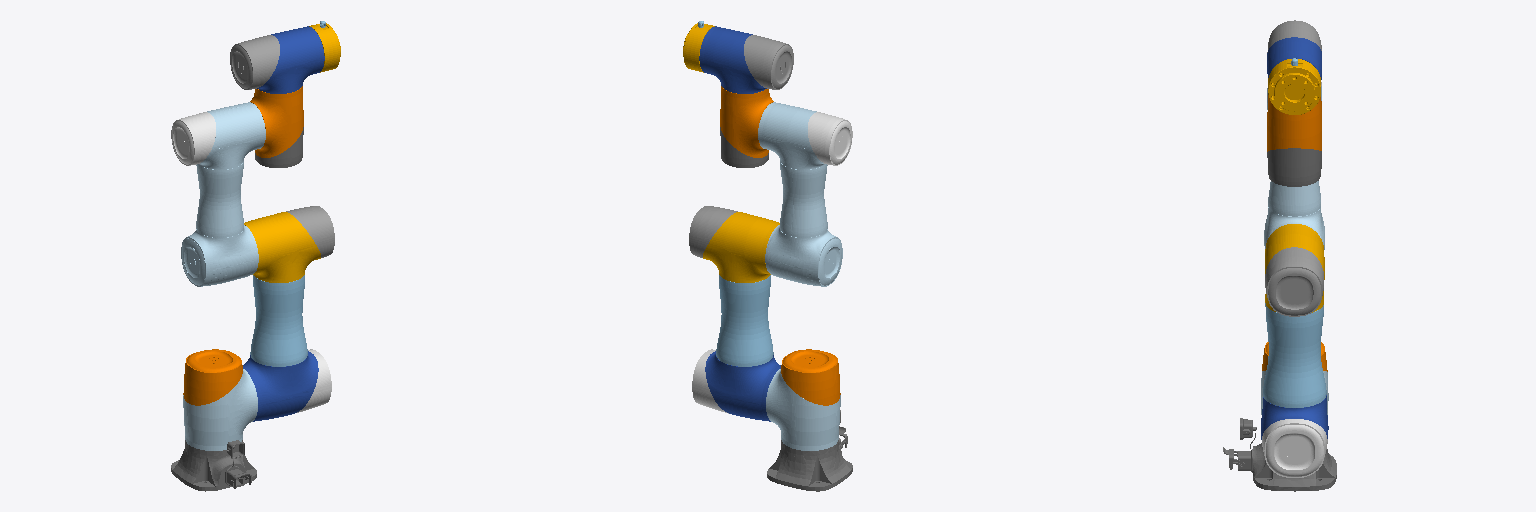
URDF robot description (robot):
<?xml version="1.0" ?>
<!-- Generated using onshape-to-robot -->
<!-- Onshape document_id: 384d273dab782e686905da03 / workspace_id: 05cffc649f36287ef4692688 -->
<robot name="robot">
  <!-- Link cr3_j6_asm_3_asm_1_asm_1_asm -->
  <link name="cr3_j6_asm_3_asm_1_asm_1_asm">
    <inertial>
      <origin xyz="0 0 0" rpy="0 0 0"/>
      <mass value="1e-09"/>
      <inertia ixx="1e-09" ixy="0" ixz="0" iyy="1e-09" iyz="0" izz="1e-09"/>
    </inertial>
    <!-- Part cr3_j6_cr3_2__cr30001_1_1_2_1_1 -->
    <visual>
      <origin xyz="-0.00190005 2.91544e-08 0.0589988" rpy="1.66533e-15 2.89768e-15 3.21987e-15"/>
      <geometry>
        <mesh filename="package://assets/cr3_j6_cr3_2__cr30001_1_1_2_1_1.stl"/>
      </geometry>
      <material name="cr3_j6_cr3_2__cr30001_1_1_2_1_1_material">
        <color rgba="0.615686 0.811765 0.929412 1"/>
      </material>
    </visual>
    <collision>
      <origin xyz="-0.00190005 2.91544e-08 0.0589988" rpy="1.66533e-15 2.89768e-15 3.21987e-15"/>
      <geometry>
        <mesh filename="package://assets/cr3_j6_cr3_2__cr30001_1_1_2_1_1.stl"/>
      </geometry>
    </collision>
    <!-- Part cr3_j6_cr3_2__cr30001_1_2_2_1_1 -->
    <visual>
      <origin xyz="-0.00190005 2.91544e-08 0.0589988" rpy="1.66533e-15 1.64624e-15 2.77118e-15"/>
      <geometry>
        <mesh filename="package://assets/cr3_j6_cr3_2__cr30001_1_2_2_1_1.stl"/>
      </geometry>
      <material name="cr3_j6_cr3_2__cr30001_1_2_2_1_1_material">
        <color rgba="0.980392 0.713725 0.00392157 1"/>
      </material>
    </visual>
    <collision>
      <origin xyz="-0.00190005 2.91544e-08 0.0589988" rpy="1.66533e-15 1.64624e-15 2.77118e-15"/>
      <geometry>
        <mesh filename="package://assets/cr3_j6_cr3_2__cr30001_1_2_2_1_1.stl"/>
      </geometry>
    </collision>
  </link>
  <!-- Link cr3_j5_asm_3_asm_1_asm_1_asm -->
  <link name="cr3_j5_asm_3_asm_1_asm_1_asm">
    <inertial>
      <origin xyz="0 0 0" rpy="0 0 0"/>
      <mass value="1e-09"/>
      <inertia ixx="1e-09" ixy="0" ixz="0" iyy="1e-09" iyz="0" izz="1e-09"/>
    </inertial>
    <!-- Part 1__5443600_1_2_1_1 -->
    <visual>
      <origin xyz="1.56781e-16 -0.6896 -0.1959" rpy="-1.5708 -1.5708 0"/>
      <geometry>
        <mesh filename="package://assets/1__5443600_1_2_1_1.stl"/>
      </geometry>
      <material name="1__5443600_1_2_1_1_material">
        <color rgba="0.231373 0.380392 0.705882 1"/>
      </material>
    </visual>
    <collision>
      <origin xyz="1.56781e-16 -0.6896 -0.1959" rpy="-1.5708 -1.5708 0"/>
      <geometry>
        <mesh filename="package://assets/1__5443600_1_2_1_1.stl"/>
      </geometry>
    </collision>
    <!-- Part 1__10296000_1_2_1_1 -->
    <visual>
      <origin xyz="1.39965e-07 -0.6896 -0.1959" rpy="-1.5708 -1.5708 0"/>
      <geometry>
        <mesh filename="package://assets/1__10296000_1_2_1_1.stl"/>
      </geometry>
      <material name="1__10296000_1_2_1_1_material">
        <color rgba="0.647059 0.647059 0.647059 1"/>
      </material>
    </visual>
    <collision>
      <origin xyz="1.39965e-07 -0.6896 -0.1959" rpy="-1.5708 -1.5708 0"/>
      <geometry>
        <mesh filename="package://assets/1__10296000_1_2_1_1.stl"/>
      </geometry>
    </collision>
  </link>
  <!-- Link cr3_j4_asm_3_asm_1_asm_1_asm -->
  <link name="cr3_j4_asm_3_asm_1_asm_1_asm">
    <inertial>
      <origin xyz="0 0 0" rpy="0 0 0"/>
      <mass value="1e-09"/>
      <inertia ixx="1e-09" ixy="0" ixz="0" iyy="1e-09" iyz="0" izz="1e-09"/>
    </inertial>
    <!-- Part 1__898100_1_2_1_1 -->
    <visual>
      <origin xyz="-2.73152e-09 -4.04826e-09 0.000999998" rpy="3.14159 9.82563e-19 3.14159"/>
      <geometry>
        <mesh filename="package://assets/1__898100_1_2_1_1.stl"/>
      </geometry>
      <material name="1__898100_1_2_1_1_material">
        <color rgba="0.498039 0.498039 0.498039 1"/>
      </material>
    </visual>
    <collision>
      <origin xyz="-2.73152e-09 -4.04826e-09 0.000999998" rpy="3.14159 9.82563e-19 3.14159"/>
      <geometry>
        <mesh filename="package://assets/1__898100_1_2_1_1.stl"/>
      </geometry>
    </collision>
    <!-- Part 1__5583500_1_2_1_1 -->
    <visual>
      <origin xyz="0 -1.18178e-16 0.001" rpy="3.14159 -2.29263e-29 3.14159"/>
      <geometry>
        <mesh filename="package://assets/1__5583500_1_2_1_1.stl"/>
      </geometry>
      <material name="1__5583500_1_2_1_1_material">
        <color rgba="0.972549 0.529412 0.00392157 1"/>
      </material>
    </visual>
    <collision>
      <origin xyz="0 -1.18178e-16 0.001" rpy="3.14159 -2.29263e-29 3.14159"/>
      <geometry>
        <mesh filename="package://assets/1__5583500_1_2_1_1.stl"/>
      </geometry>
    </collision>
  </link>
  <!-- Link cr3_j3_asm_3_asm_1_asm_1_asm -->
  <link name="cr3_j3_asm_3_asm_1_asm_1_asm">
    <inertial>
      <origin xyz="0 0 0" rpy="0 0 0"/>
      <mass value="1e-09"/>
      <inertia ixx="1e-09" ixy="0" ixz="0" iyy="1e-09" iyz="0" izz="1e-09"/>
    </inertial>
    <!-- Part cr3_j32_cr3_2__cr30001_1_2_1_1 -->
    <visual>
      <origin xyz="7.98858e-09 -0.5736 -0.0795999" rpy="-1.5708 -1.5708 0"/>
      <geometry>
        <mesh filename="package://assets/cr3_j32_cr3_2__cr30001_1_2_1_1.stl"/>
      </geometry>
      <material name="cr3_j32_cr3_2__cr30001_1_2_1_1_material">
        <color rgba="0.917647 0.917647 0.917647 1"/>
      </material>
    </visual>
    <collision>
      <origin xyz="7.98858e-09 -0.5736 -0.0795999" rpy="-1.5708 -1.5708 0"/>
      <geometry>
        <mesh filename="package://assets/cr3_j32_cr3_2__cr30001_1_2_1_1.stl"/>
      </geometry>
    </collision>
    <!-- Part cr3_j3_cr3_2__cr30001_1_3_1_1 -->
    <visual>
      <origin xyz="6.42567e-17 -0.5736 -0.0796" rpy="-1.5708 -1.5708 0"/>
      <geometry>
        <mesh filename="package://assets/cr3_j3_cr3_2__cr30001_1_3_1_1.stl"/>
      </geometry>
      <material name="cr3_j3_cr3_2__cr30001_1_3_1_1_material">
        <color rgba="0.768627 0.886275 0.952941 1"/>
      </material>
    </visual>
    <collision>
      <origin xyz="6.42567e-17 -0.5736 -0.0796" rpy="-1.5708 -1.5708 0"/>
      <geometry>
        <mesh filename="package://assets/cr3_j3_cr3_2__cr30001_1_3_1_1.stl"/>
      </geometry>
    </collision>
  </link>
  <!-- Link cr3_j2_asm_3_asm_1_asm_1_asm -->
  <link name="cr3_j2_asm_3_asm_1_asm_1_asm">
    <inertial>
      <origin xyz="0 0 0" rpy="0 0 0"/>
      <mass value="1e-09"/>
      <inertia ixx="1e-09" ixy="0" ixz="0" iyy="1e-09" iyz="0" izz="1e-09"/>
    </inertial>
    <!-- Part 2__379600_1_2_1_1 -->
    <visual>
      <origin xyz="3.06522e-08 0.3434 0.0625997" rpy="1.5708 1.5708 0"/>
      <geometry>
        <mesh filename="package://assets/2__379600_1_2_1_1.stl"/>
      </geometry>
      <material name="2__379600_1_2_1_1_material">
        <color rgba="0.917647 0.917647 0.917647 1"/>
      </material>
    </visual>
    <collision>
      <origin xyz="3.06522e-08 0.3434 0.0625997" rpy="1.5708 1.5708 0"/>
      <geometry>
        <mesh filename="package://assets/2__379600_1_2_1_1.stl"/>
      </geometry>
    </collision>
    <!-- Part 2__10365500_1_2_1_1 -->
    <visual>
      <origin xyz="2.45243e-09 0.3436 0.0626" rpy="1.5708 1.5708 0"/>
      <geometry>
        <mesh filename="package://assets/2__10365500_1_2_1_1.stl"/>
      </geometry>
      <material name="2__10365500_1_2_1_1_material">
        <color rgba="0.980392 0.713725 0.00392157 1"/>
      </material>
    </visual>
    <collision>
      <origin xyz="2.45243e-09 0.3436 0.0626" rpy="1.5708 1.5708 0"/>
      <geometry>
        <mesh filename="package://assets/2__10365500_1_2_1_1.stl"/>
      </geometry>
    </collision>
    <!-- Part 2__5654200_1_2_1_1 -->
    <visual>
      <origin xyz="-5.44801e-07 0.3436 0.0626" rpy="1.5708 1.5708 0"/>
      <geometry>
        <mesh filename="package://assets/2__5654200_1_2_1_1.stl"/>
      </geometry>
      <material name="2__5654200_1_2_1_1_material">
        <color rgba="0.647059 0.647059 0.647059 1"/>
      </material>
    </visual>
    <collision>
      <origin xyz="-5.44801e-07 0.3436 0.0626" rpy="1.5708 1.5708 0"/>
      <geometry>
        <mesh filename="package://assets/2__5654200_1_2_1_1.stl"/>
      </geometry>
    </collision>
    <!-- Part 2__968800_1_2_1_1 -->
    <visual>
      <origin xyz="-2.91535e-08 0.3434 0.0625999" rpy="1.5708 1.5708 0"/>
      <geometry>
        <mesh filename="package://assets/2__968800_1_2_1_1.stl"/>
      </geometry>
      <material name="2__968800_1_2_1_1_material">
        <color rgba="0.231373 0.380392 0.705882 1"/>
      </material>
    </visual>
    <collision>
      <origin xyz="-2.91535e-08 0.3434 0.0625999" rpy="1.5708 1.5708 0"/>
      <geometry>
        <mesh filename="package://assets/2__968800_1_2_1_1.stl"/>
      </geometry>
    </collision>
    <!-- Part none_1_2_1_1 -->
    <visual>
      <origin xyz="6.1529e-09 0.3436 0.0626" rpy="1.5708 1.5708 0"/>
      <geometry>
        <mesh filename="package://assets/none_1_2_1_1.stl"/>
      </geometry>
      <material name="none_1_2_1_1_material">
        <color rgba="0.615686 0.811765 0.929412 1"/>
      </material>
    </visual>
    <collision>
      <origin xyz="6.1529e-09 0.3436 0.0626" rpy="1.5708 1.5708 0"/>
      <geometry>
        <mesh filename="package://assets/none_1_2_1_1.stl"/>
      </geometry>
    </collision>
  </link>
  <!-- Link cr3_j1_asm_3_asm_1_asm_1_asm -->
  <link name="cr3_j1_asm_3_asm_1_asm_1_asm">
    <inertial>
      <origin xyz="0 0 0" rpy="0 0 0"/>
      <mass value="1e-09"/>
      <inertia ixx="1e-09" ixy="0" ixz="0" iyy="1e-09" iyz="0" izz="1e-09"/>
    </inertial>
    <!-- Part 1__1038100_1_2_1_1 -->
    <visual>
      <origin xyz="-0.042 9.14997e-13 -0.059" rpy="1.5708 1.5708 0"/>
      <geometry>
        <mesh filename="package://assets/1__1038100_1_2_1_1.stl"/>
      </geometry>
      <material name="1__1038100_1_2_1_1_material">
        <color rgba="0.768627 0.886275 0.952941 1"/>
      </material>
    </visual>
    <collision>
      <origin xyz="-0.042 9.14997e-13 -0.059" rpy="1.5708 1.5708 0"/>
      <geometry>
        <mesh filename="package://assets/1__1038100_1_2_1_1.stl"/>
      </geometry>
    </collision>
    <!-- Part 1__309400_1_2_1_1 -->
    <visual>
      <origin xyz="-0.0419999 1.72068e-06 -0.0589997" rpy="1.5708 1.5708 0"/>
      <geometry>
        <mesh filename="package://assets/1__309400_1_2_1_1.stl"/>
      </geometry>
      <material name="1__309400_1_2_1_1_material">
        <color rgba="0.972549 0.529412 0.00392157 1"/>
      </material>
    </visual>
    <collision>
      <origin xyz="-0.0419999 1.72068e-06 -0.0589997" rpy="1.5708 1.5708 0"/>
      <geometry>
        <mesh filename="package://assets/1__309400_1_2_1_1.stl"/>
      </geometry>
    </collision>
  </link>
  <!-- Link cr3_base_2_1_1 -->
  <link name="cr3_base_2_1_1">
    <inertial>
      <origin xyz="0 0 0" rpy="0 0 0"/>
      <mass value="1e-09"/>
      <inertia ixx="1e-09" ixy="0" ixz="0" iyy="1e-09" iyz="0" izz="1e-09"/>
    </inertial>
    <!-- Part cr3_base_2_1_1 -->
    <visual>
      <origin xyz="5.20417e-18 3.06855e-11 -8.38218e-15" rpy="6.79409e-09 -3.04663e-16 3.14159"/>
      <geometry>
        <mesh filename="package://assets/cr3_base_2_1_1.stl"/>
      </geometry>
      <material name="cr3_base_2_1_1_material">
        <color rgba="0.498039 0.498039 0.498039 1"/>
      </material>
    </visual>
    <collision>
      <origin xyz="5.20417e-18 3.06855e-11 -8.38218e-15" rpy="6.79409e-09 -3.04663e-16 3.14159"/>
      <geometry>
        <mesh filename="package://assets/cr3_base_2_1_1.stl"/>
      </geometry>
    </collision>
  </link>
  <!-- Joint from cr3_j1_asm_3_asm_1_asm_1_asm to cr3_base_2_1_1 -->
  <joint name="j0" type="revolute">
    <origin xyz="-0.0698 9.14997e-13 -0.059" rpy="-0 1.5708 0"/>
    <parent link="cr3_j1_asm_3_asm_1_asm_1_asm"/>
    <child link="cr3_base_2_1_1"/>
    <axis xyz="0 0 1"/>
    <limit effort="10" velocity="10" lower="0" upper="3.14159"/>
  </joint>
  <!-- Joint from cr3_j2_asm_3_asm_1_asm_1_asm to cr3_j1_asm_3_asm_1_asm_1_asm -->
  <joint name="j1" type="revolute">
    <origin xyz="-2.91535e-08 0.2738 0.00359995" rpy="-3.14159 1.00424e-15 -1.5708"/>
    <parent link="cr3_j2_asm_3_asm_1_asm_1_asm"/>
    <child link="cr3_j1_asm_3_asm_1_asm_1_asm"/>
    <axis xyz="0 0 1"/>
    <limit effort="10" velocity="10" lower="0" upper="3.14159"/>
  </joint>
  <!-- Joint from cr3_j3_asm_3_asm_1_asm_1_asm to cr3_j2_asm_3_asm_1_asm_1_asm -->
  <joint name="j2" type="revolute">
    <origin xyz="4.71638e-17 -0.229999 -0.0167" rpy="3.14159 -5.74986e-16 -5.55112e-17"/>
    <parent link="cr3_j3_asm_3_asm_1_asm_1_asm"/>
    <child link="cr3_j2_asm_3_asm_1_asm_1_asm"/>
    <axis xyz="0 0 1"/>
    <limit effort="10" velocity="10" lower="0" upper="3.14159"/>
  </joint>
  <!-- Joint from cr3_j4_asm_3_asm_1_asm_1_asm to cr3_j3_asm_3_asm_1_asm_1_asm -->
  <joint name="j3" type="revolute">
    <origin xyz="-0.049 -4.39748e-17 -0.067" rpy="1.5708 -5.55112e-17 1.5708"/>
    <parent link="cr3_j4_asm_3_asm_1_asm_1_asm"/>
    <child link="cr3_j3_asm_3_asm_1_asm_1_asm"/>
    <axis xyz="0 0 1"/>
    <limit effort="10" velocity="10" lower="0" upper="3.14159"/>
  </joint>
  <!-- Joint from cr3_j5_asm_3_asm_1_asm_1_asm to cr3_j4_asm_3_asm_1_asm_1_asm -->
  <joint name="j4" type="revolute">
    <origin xyz="4.34299e-17 -0.049 -0.0673" rpy="-1.5708 -1.5708 0"/>
    <parent link="cr3_j5_asm_3_asm_1_asm_1_asm"/>
    <child link="cr3_j4_asm_3_asm_1_asm_1_asm"/>
    <axis xyz="0 0 1"/>
    <limit effort="10" velocity="10" lower="-1.77636e-15" upper="3.14159"/>
  </joint>
  <!-- Joint from cr3_j6_asm_3_asm_1_asm_1_asm to cr3_j5_asm_3_asm_1_asm_1_asm -->
  <joint name="j5" type="revolute">
    <origin xyz="0.1921 2.91544e-08 0.748599" rpy="1.5708 -1.66533e-15 1.5708"/>
    <parent link="cr3_j6_asm_3_asm_1_asm_1_asm"/>
    <child link="cr3_j5_asm_3_asm_1_asm_1_asm"/>
    <axis xyz="0 0 1"/>
    <limit effort="10" velocity="10" lower="0" upper="4.71239"/>
  </joint>
</robot>

--- What the picture shows (computed from the rendered views, not written in the file) ---
The picture shows the robot from 3 angles, left to right: view 1: azimuth 30°, elevation 25°; view 2: azimuth 150°, elevation 25°; view 3: azimuth 270°, elevation 25°; orthographic projection.
Robot: robot — 7 links, 6 joints (6 revolute); root link cr3_j6_asm_3_asm_1_asm_1_asm; default pose: all joints at 0.
Visible links, largest first — view 1: cr3_j2_asm_3_asm_1_asm_1_asm, cr3_j3_asm_3_asm_1_asm_1_asm, cr3_j1_asm_3_asm_1_asm_1_asm, cr3_j5_asm_3_asm_1_asm_1_asm, cr3_j4_asm_3_asm_1_asm_1_asm, cr3_base_2_1_1, cr3_j6_asm_3_asm_1_asm_1_asm; view 2: cr3_j2_asm_3_asm_1_asm_1_asm, cr3_j3_asm_3_asm_1_asm_1_asm, cr3_j1_asm_3_asm_1_asm_1_asm, cr3_j5_asm_3_asm_1_asm_1_asm, cr3_j4_asm_3_asm_1_asm_1_asm, cr3_base_2_1_1, cr3_j6_asm_3_asm_1_asm_1_asm; view 3: cr3_j2_asm_3_asm_1_asm_1_asm, cr3_j4_asm_3_asm_1_asm_1_asm, cr3_base_2_1_1, cr3_j3_asm_3_asm_1_asm_1_asm, cr3_j6_asm_3_asm_1_asm_1_asm, cr3_j5_asm_3_asm_1_asm_1_asm.
Link boxes in pixels (left/top/right/bottom): cr3_j2_asm_3_asm_1_asm_1_asm: left=243, top=206, right=334, bottom=421; cr3_j3_asm_3_asm_1_asm_1_asm: left=171, top=102, right=265, bottom=286; cr3_j1_asm_3_asm_1_asm_1_asm: left=183, top=349, right=257, bottom=450; cr3_j5_asm_3_asm_1_asm_1_asm: left=230, top=26, right=324, bottom=93; cr3_j4_asm_3_asm_1_asm_1_asm: left=250, top=86, right=303, bottom=167; cr3_base_2_1_1: left=171, top=440, right=256, bottom=491; cr3_j6_asm_3_asm_1_asm_1_asm: left=309, top=21, right=340, bottom=72; cr3_j2_asm_3_asm_1_asm_1_asm: left=689, top=206, right=780, bottom=421; cr3_j3_asm_3_asm_1_asm_1_asm: left=758, top=102, right=852, bottom=286; cr3_j1_asm_3_asm_1_asm_1_asm: left=766, top=349, right=840, bottom=450; cr3_j5_asm_3_asm_1_asm_1_asm: left=699, top=26, right=793, bottom=93; cr3_j4_asm_3_asm_1_asm_1_asm: left=720, top=86, right=773, bottom=167; cr3_base_2_1_1: left=767, top=410, right=852, bottom=491; cr3_j6_asm_3_asm_1_asm_1_asm: left=683, top=21, right=714, bottom=72; cr3_j2_asm_3_asm_1_asm_1_asm: left=1261, top=224, right=1328, bottom=477; cr3_j4_asm_3_asm_1_asm_1_asm: left=1267, top=95, right=1321, bottom=186; cr3_base_2_1_1: left=1223, top=418, right=1336, bottom=491; cr3_j3_asm_3_asm_1_asm_1_asm: left=1264, top=82, right=1324, bottom=249; cr3_j6_asm_3_asm_1_asm_1_asm: left=1268, top=58, right=1320, bottom=114; cr3_j5_asm_3_asm_1_asm_1_asm: left=1267, top=20, right=1321, bottom=79.
Size in the robot's own frame: 0.2983 by 0.1753 by 0.8041 metres.
16 mesh visuals loaded from 16 distinct referenced files (16 binary STL).
